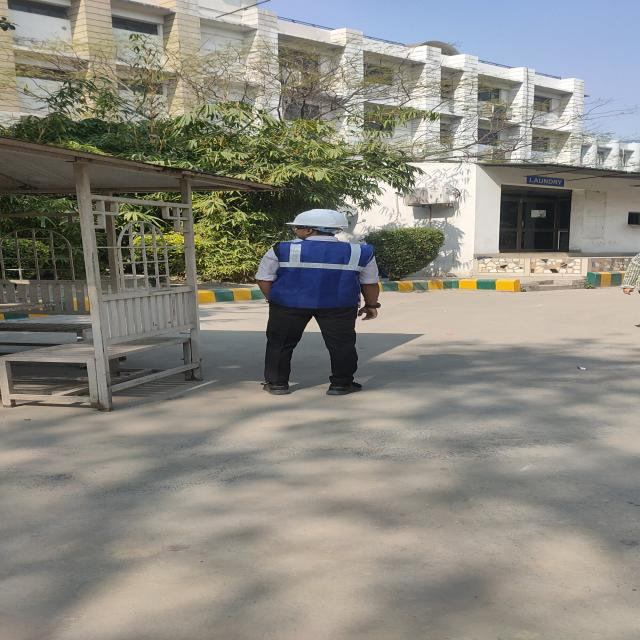safe: (256, 209, 380, 394)
